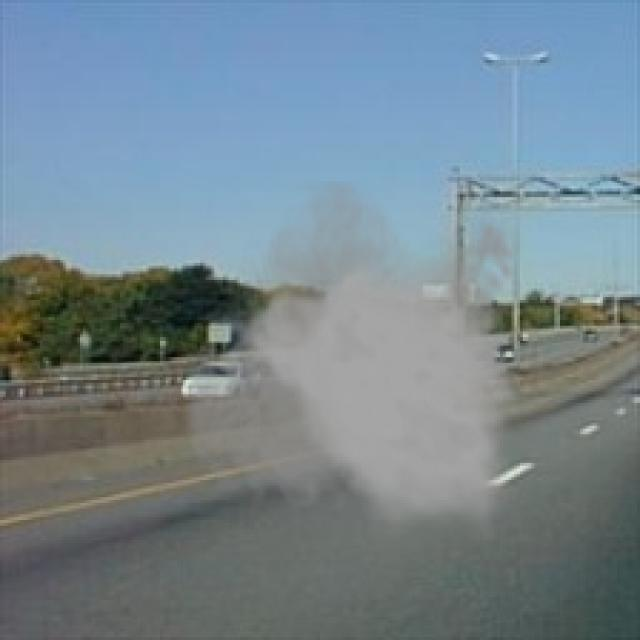smoke: (180, 180, 526, 540)
